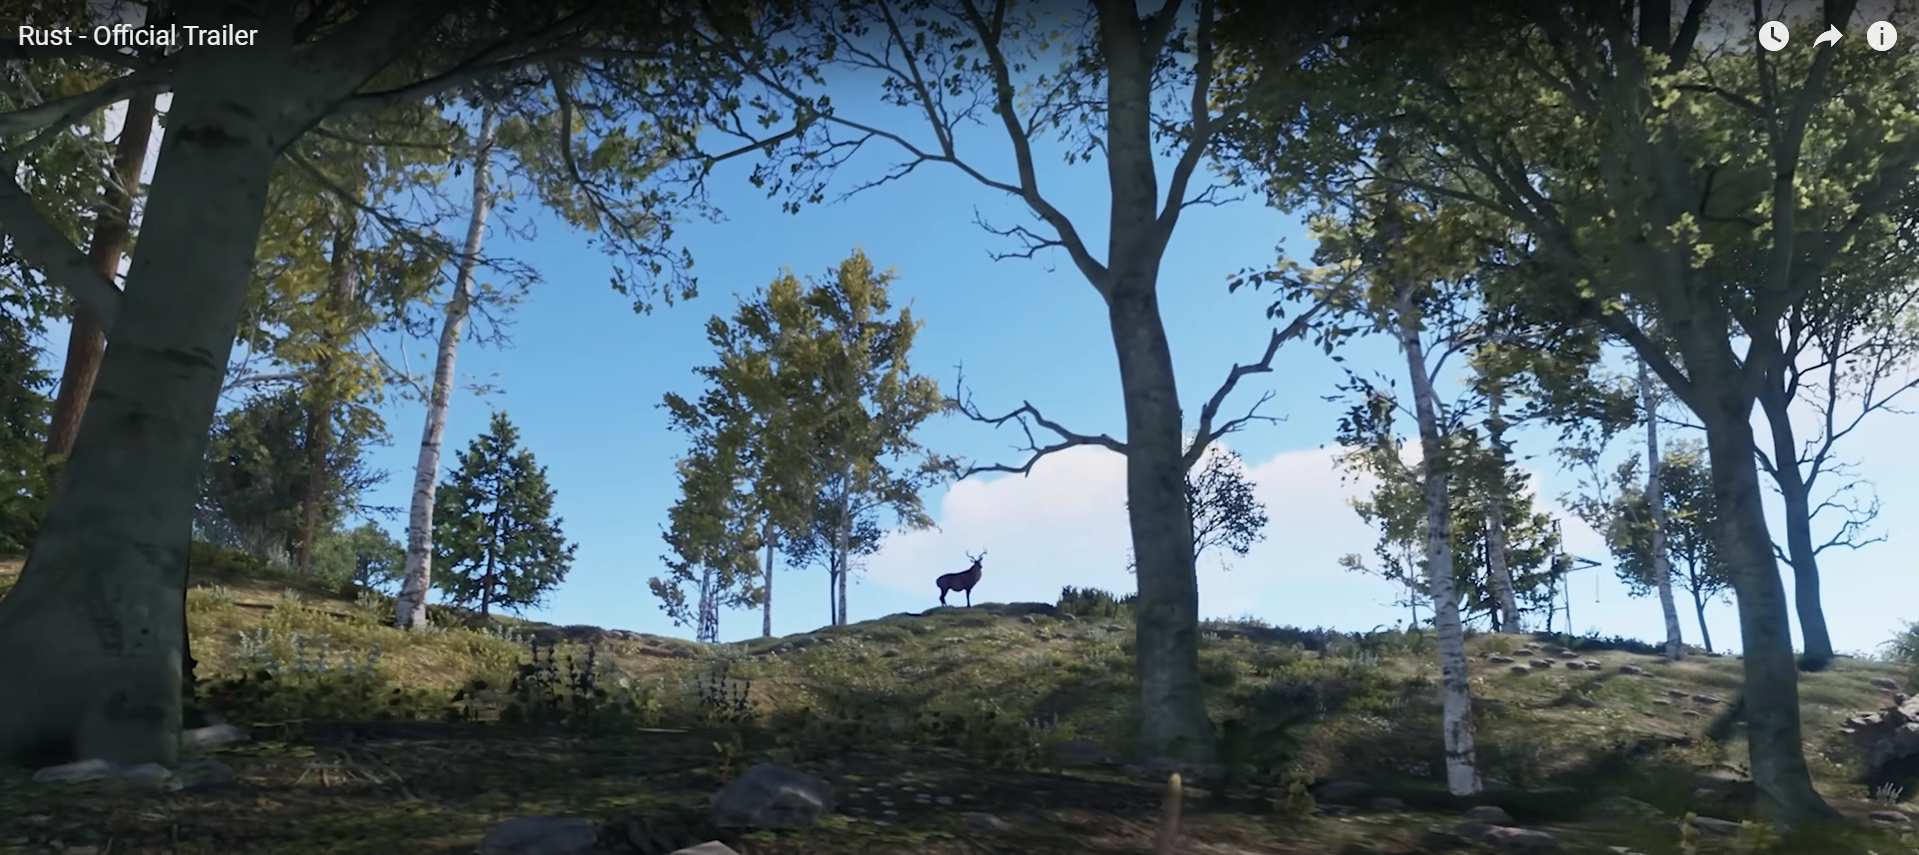tree: (1, 13, 422, 809), (1548, 1, 1857, 820), (1300, 80, 1509, 785), (1068, 7, 1232, 795), (346, 57, 543, 678), (1646, 226, 1847, 810), (1701, 259, 1842, 665), (75, 20, 143, 476), (1442, 320, 1537, 643), (800, 369, 874, 669), (758, 426, 800, 680), (475, 470, 512, 623), (690, 497, 723, 656)
